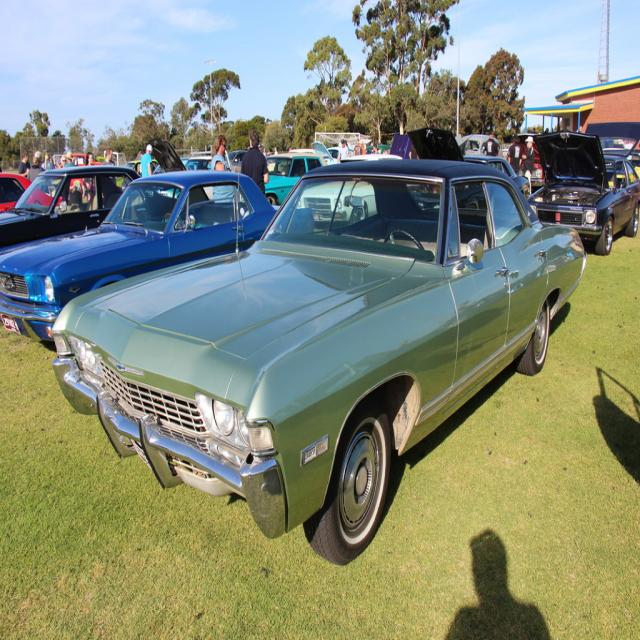other: (51, 126, 588, 566), (0, 174, 314, 351), (0, 137, 208, 255), (531, 134, 640, 255), (264, 148, 326, 204), (264, 159, 326, 203), (0, 174, 62, 211)
